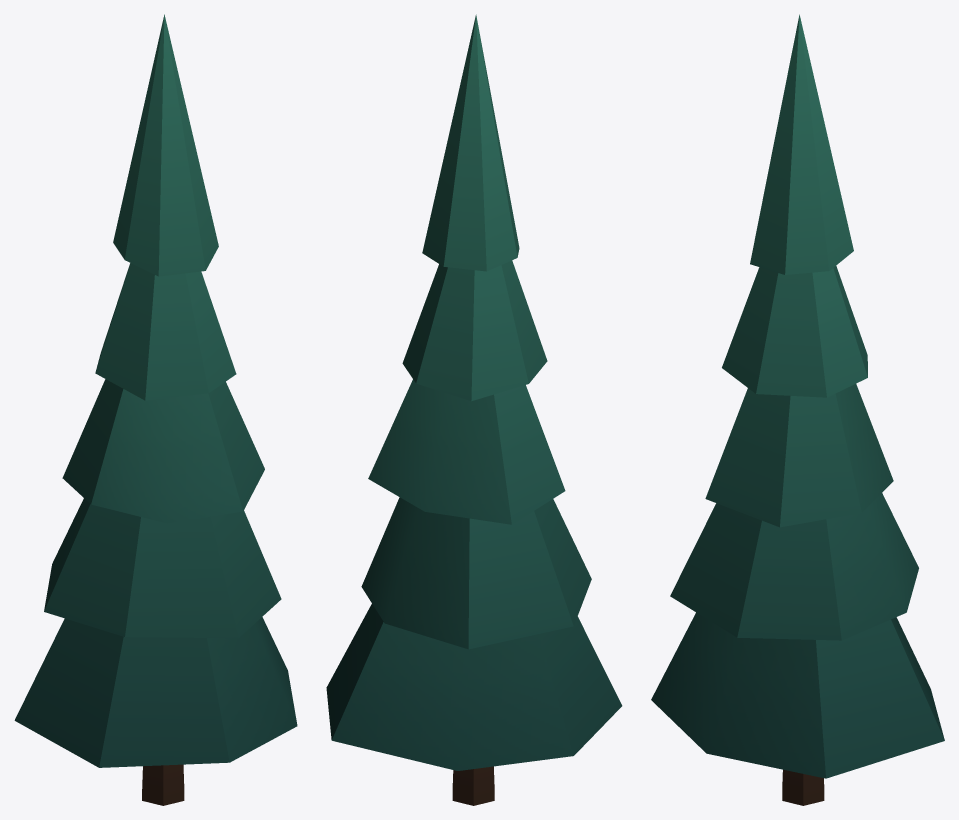
The model's file is Pine_A.fbx.
3 renders of one model, left to right at view 1: azimuth 30°, elevation 25°; view 2: azimuth 150°, elevation 25°; view 3: azimuth 270°, elevation 25°, orthographic.
Visible parts, largest first — view 1: Pine_A_LOD0; view 2: Pine_A_LOD0; view 3: Pine_A_LOD0.
Part boxes in pixels (x1,y1,x2,y2): Pine_A_LOD0: (14,14,297,805); Pine_A_LOD0: (326,14,622,805); Pine_A_LOD0: (651,14,944,805).
Size of what is drawn, in the model's own units: 3.03 by 8.7 by 2.97.
1 material, 1 textured.
